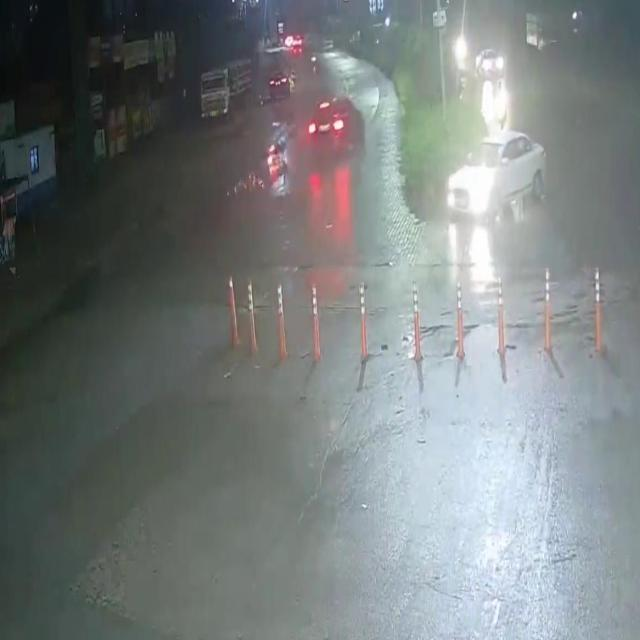accident: (248, 125, 292, 191)
